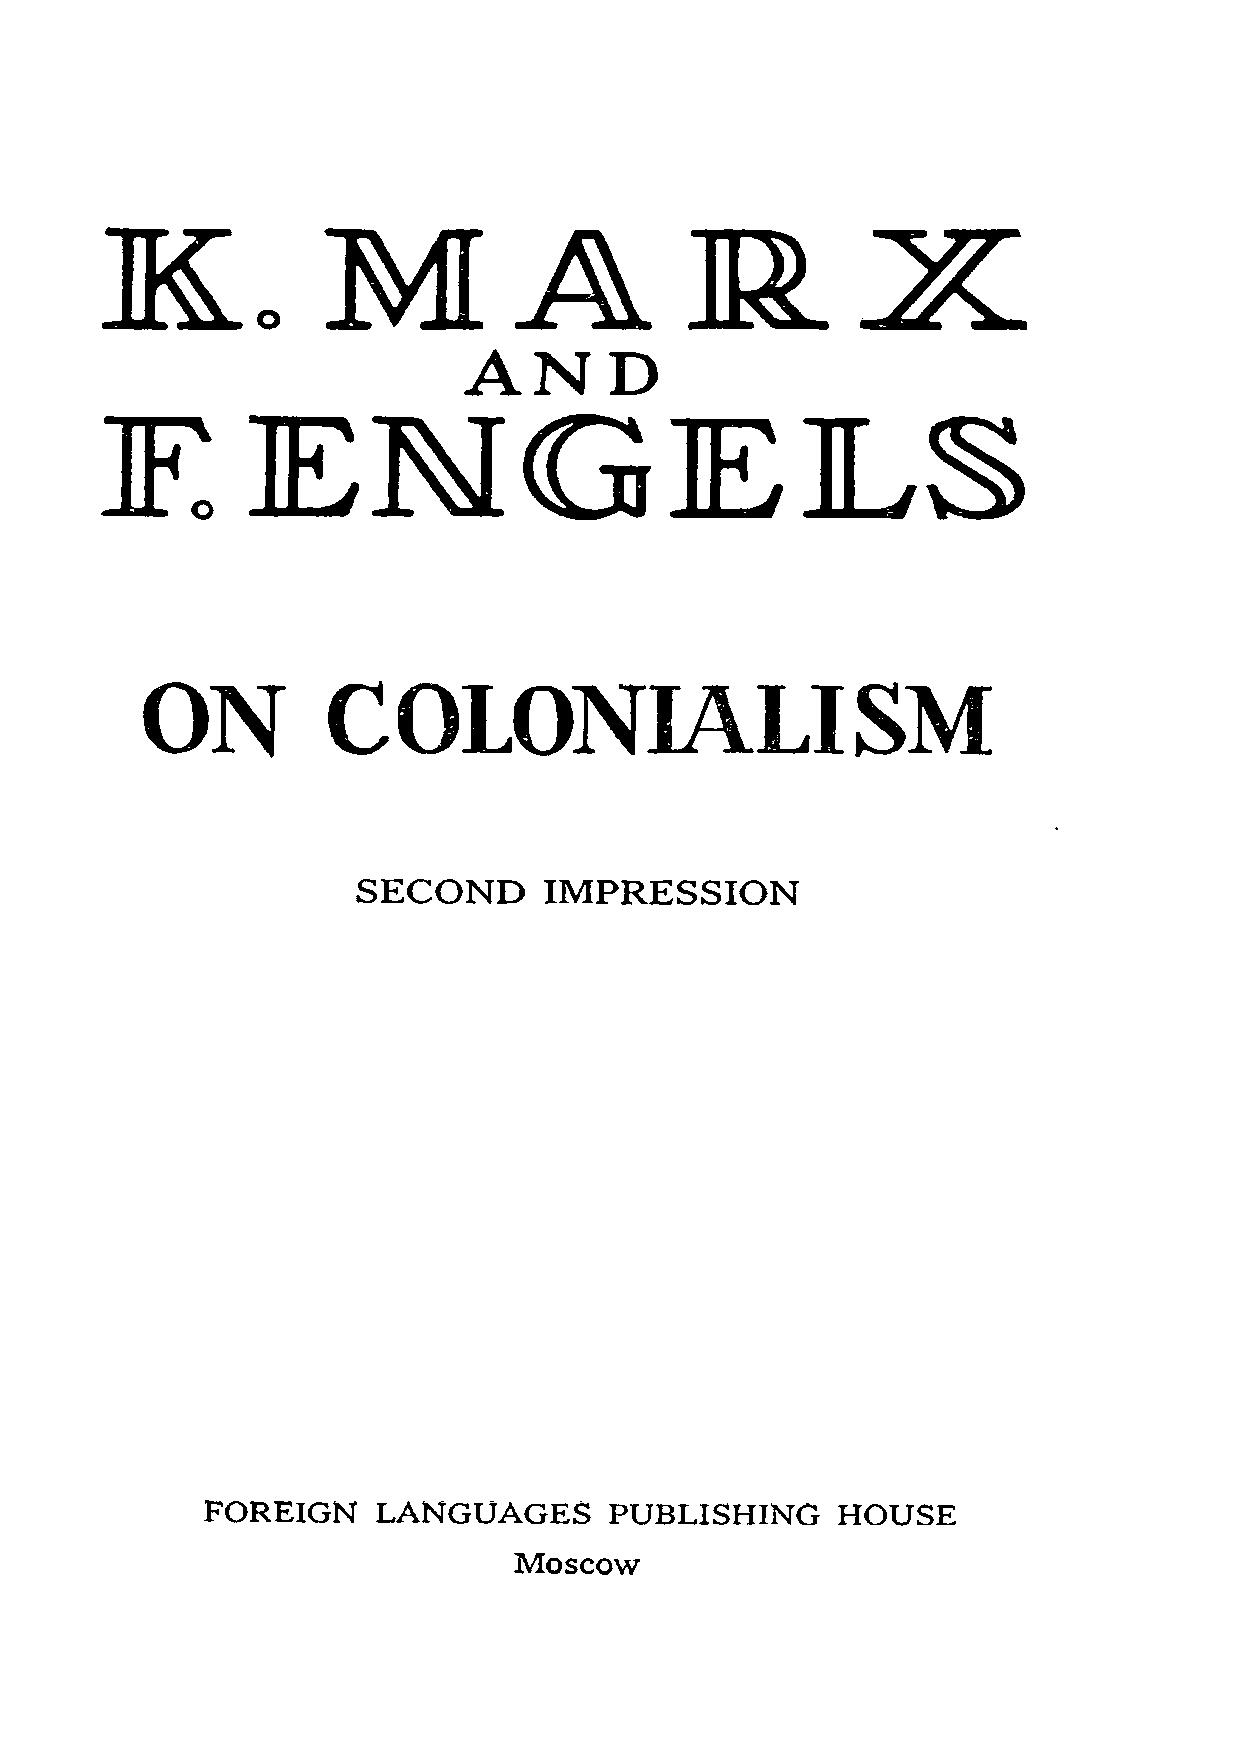author: (98, 219, 1031, 525)
title: (138, 682, 994, 760)
